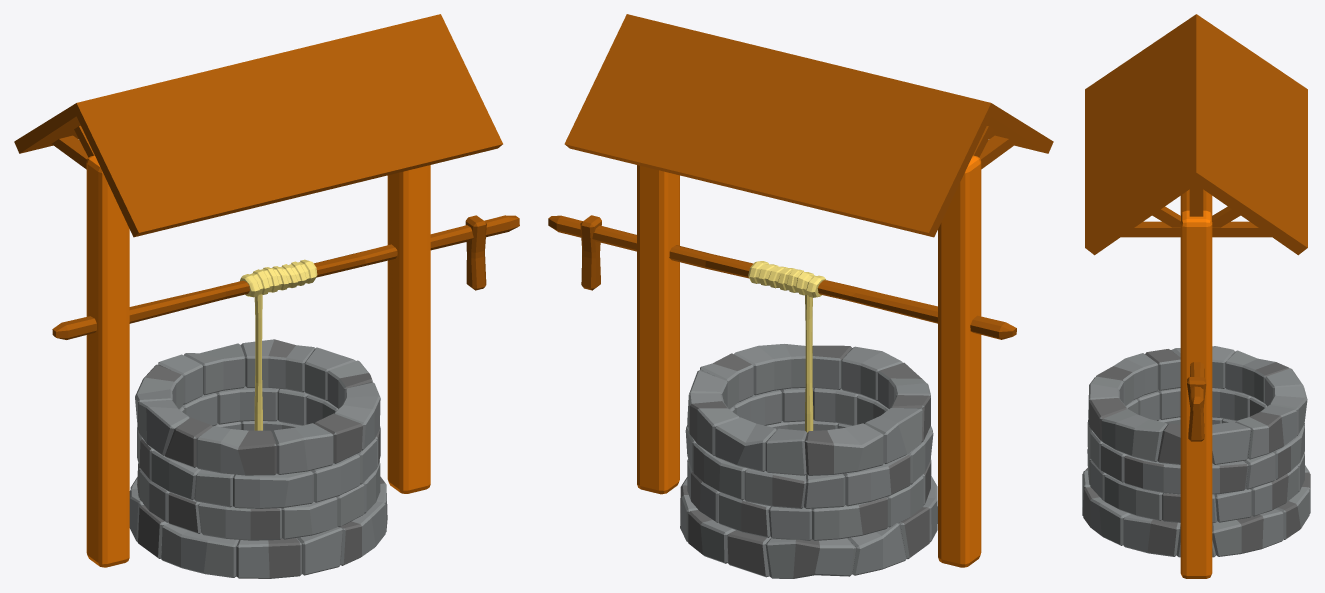
The model's file is Well.fbx.
3 views of the same model, side by side, from view 1: azimuth 30°, elevation 25°; view 2: azimuth 150°, elevation 25°; view 3: azimuth 270°, elevation 25° (orthographic). The views are drawn at different scales.
Visible parts, largest first — view 1: Well; view 2: Well; view 3: Well.
Part boxes in pixels (x1=…): Well: x1=14, y1=14, x2=519, y2=578; Well: x1=548, y1=14, x2=1053, y2=578; Well: x1=1082, y1=14, x2=1310, y2=578.
Size of the model in its own units: 5.55 by 2.65 by 5.36.
